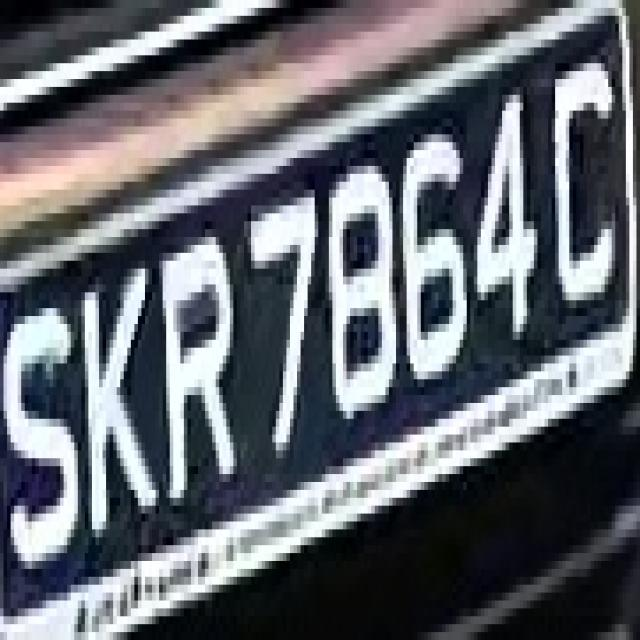4: (463, 103, 541, 371)
6: (392, 118, 470, 411)
7: (230, 174, 318, 466)
8: (322, 150, 403, 443)
C: (541, 55, 626, 348)
K: (82, 269, 148, 553)
R: (145, 213, 247, 538)
S: (10, 268, 85, 584)
